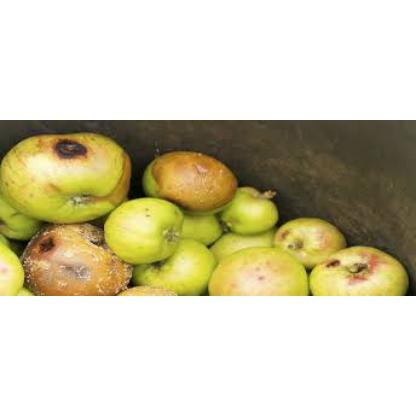damaged_apple: (1, 134, 131, 220), (16, 218, 134, 294), (148, 147, 233, 213)
